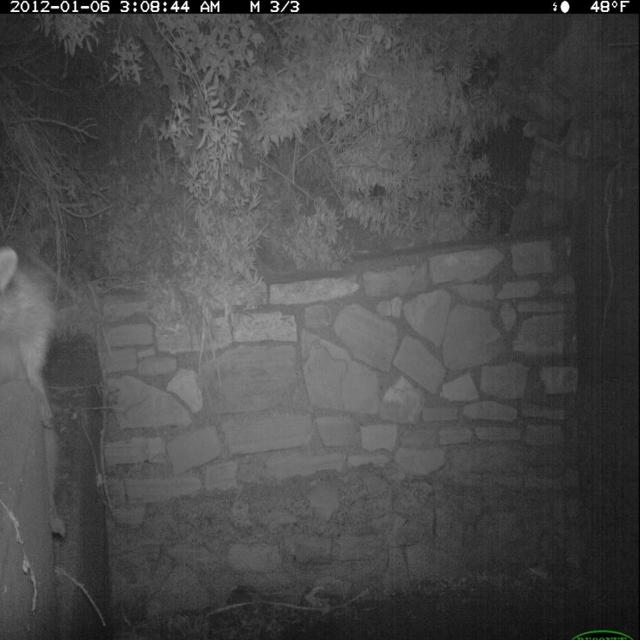raccoon: (3, 230, 71, 552)
